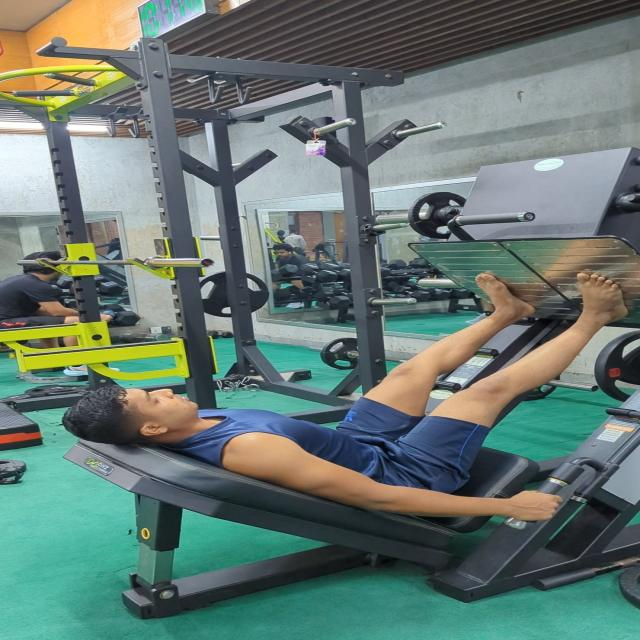Normal_LegPress: (35, 270, 640, 526)
